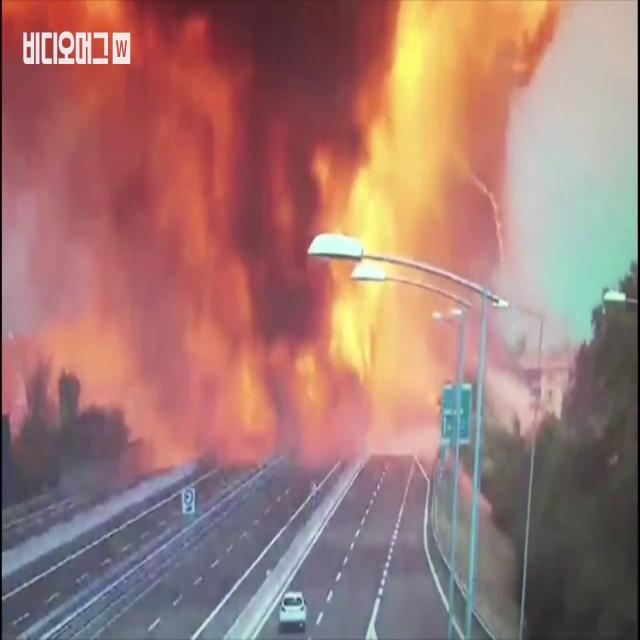explosion: (0, 9, 591, 495)
